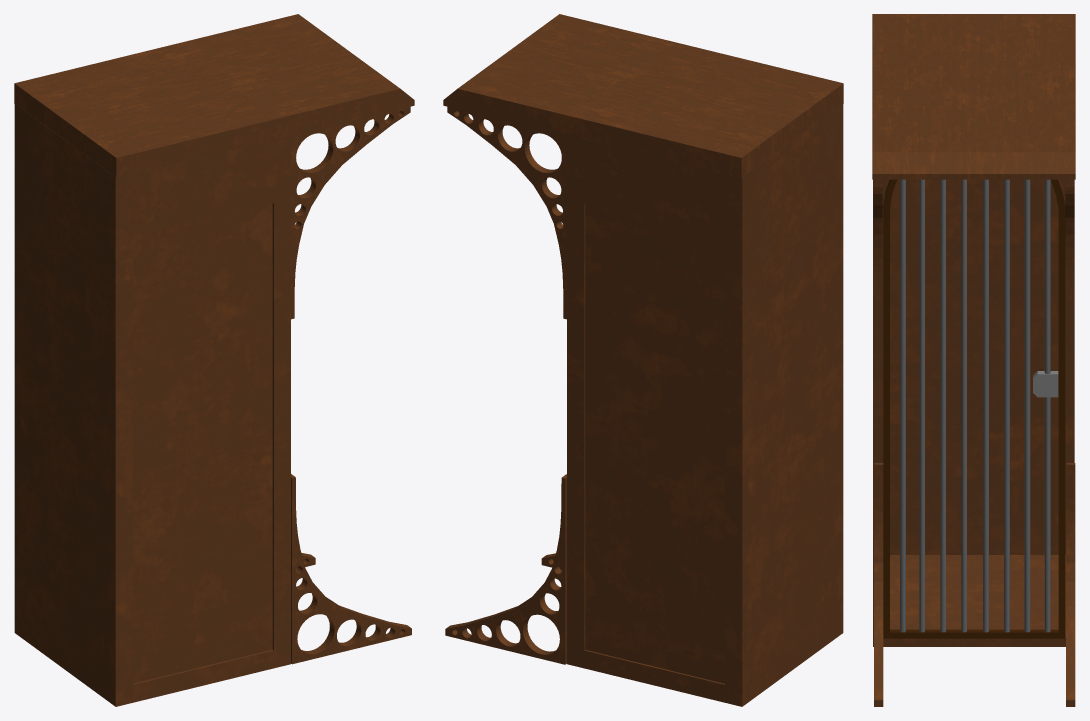
File: 1 long cage.glb
3 views of the same model, side by side, from view 1: azimuth 30°, elevation 25°; view 2: azimuth 150°, elevation 25°; view 3: azimuth 270°, elevation 25° (orthographic).
Visible parts, largest first — view 1: Cube.056, Cube.063, Cube.001, Cube.002; view 2: Cube.056, Cube.063, Cube.050, Cube.046; view 3: Cube.056, Cube.063, Cube.055, Cylinder.090, Cylinder.089, Cylinder.091, Cylinder.092, Cylinder.093, Cylinder.094, Cylinder.095, Cylinder.096, Cube.001 (+4 smaller).
Boxes of the visible parts, x1,y1,x2,y2 form: Cube.056: (14,103,290,706); Cube.063: (14,14,414,178); Cube.001: (291,474,411,664); Cube.002: (291,106,410,319); Cube.056: (567,103,843,706); Cube.063: (443,14,843,178); Cube.050: (445,474,566,664); Cube.046: (447,106,566,319); Cube.056: (873,179,1074,646); Cube.063: (872,14,1075,179); Cube.055: (883,179,1065,638); Cylinder.090: (1024,179,1030,632); Cylinder.089: (1044,179,1050,632); Cylinder.091: (1004,179,1009,632); Cylinder.092: (983,179,988,632); Cylinder.093: (961,179,966,632); Cylinder.094: (940,179,945,632); Cylinder.095: (919,179,924,632); Cylinder.096: (900,179,905,632); Cube.001: (874,463,883,706).
Size of the model in its own units: 10.74 by 18.91 by 6.36.
4 materials, 4 textured.
